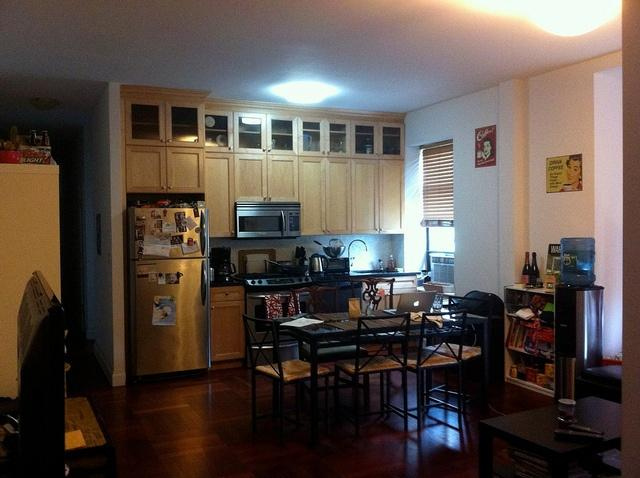Lemari: (202, 148, 404, 237), (120, 142, 206, 193)
